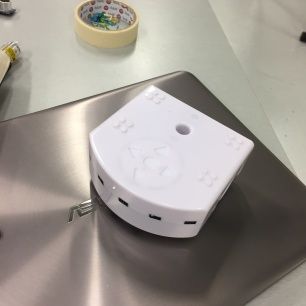thymio: (85, 81, 259, 245)
